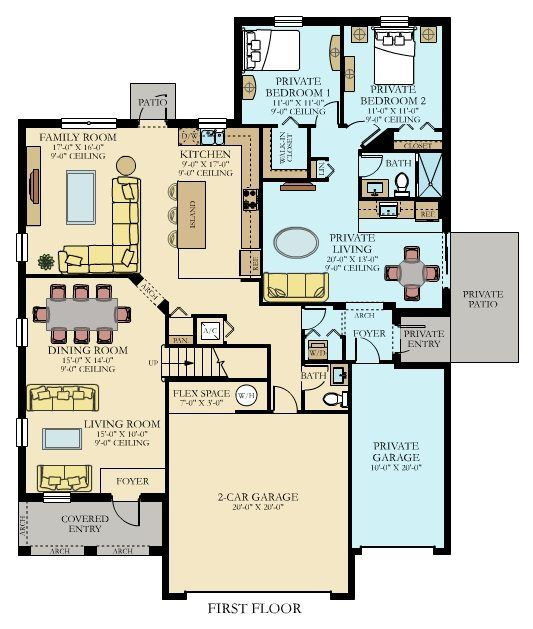door: (351, 333, 384, 359), (348, 114, 379, 140), (272, 384, 299, 408), (305, 306, 329, 332), (360, 152, 384, 178), (313, 97, 339, 121)
room: (17, 118, 263, 278), (17, 272, 169, 502), (339, 15, 451, 131), (234, 17, 343, 126)
window: (60, 118, 116, 129), (41, 491, 72, 504), (15, 233, 28, 262), (15, 318, 28, 347), (15, 418, 28, 447), (197, 118, 227, 129), (273, 16, 303, 27), (378, 16, 408, 27)
